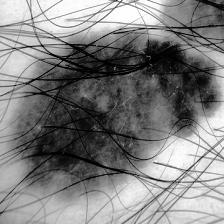Benign Marking or Mole: (7, 31, 221, 201), (160, 0, 224, 53)
